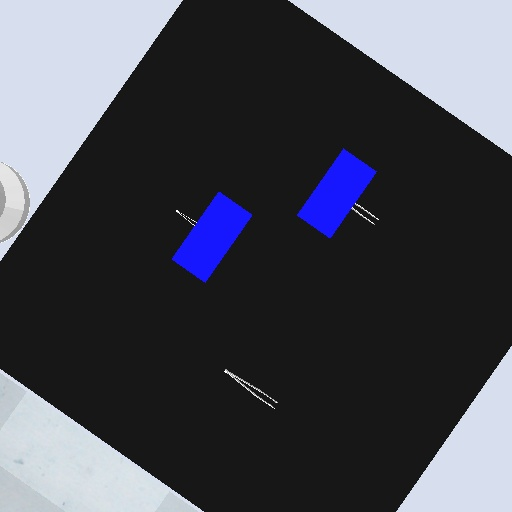pinza: (221, 367, 281, 413), (350, 202, 381, 228), (172, 206, 199, 230)
